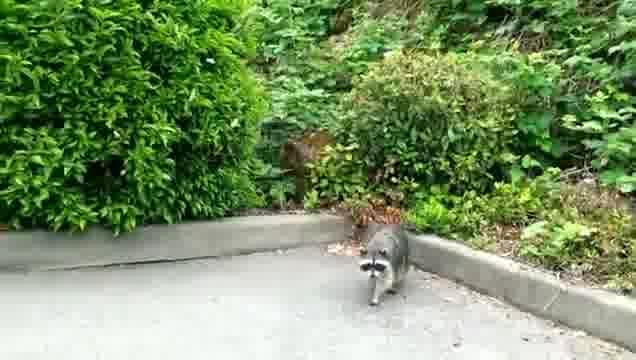raccoon: (357, 222, 409, 305)
